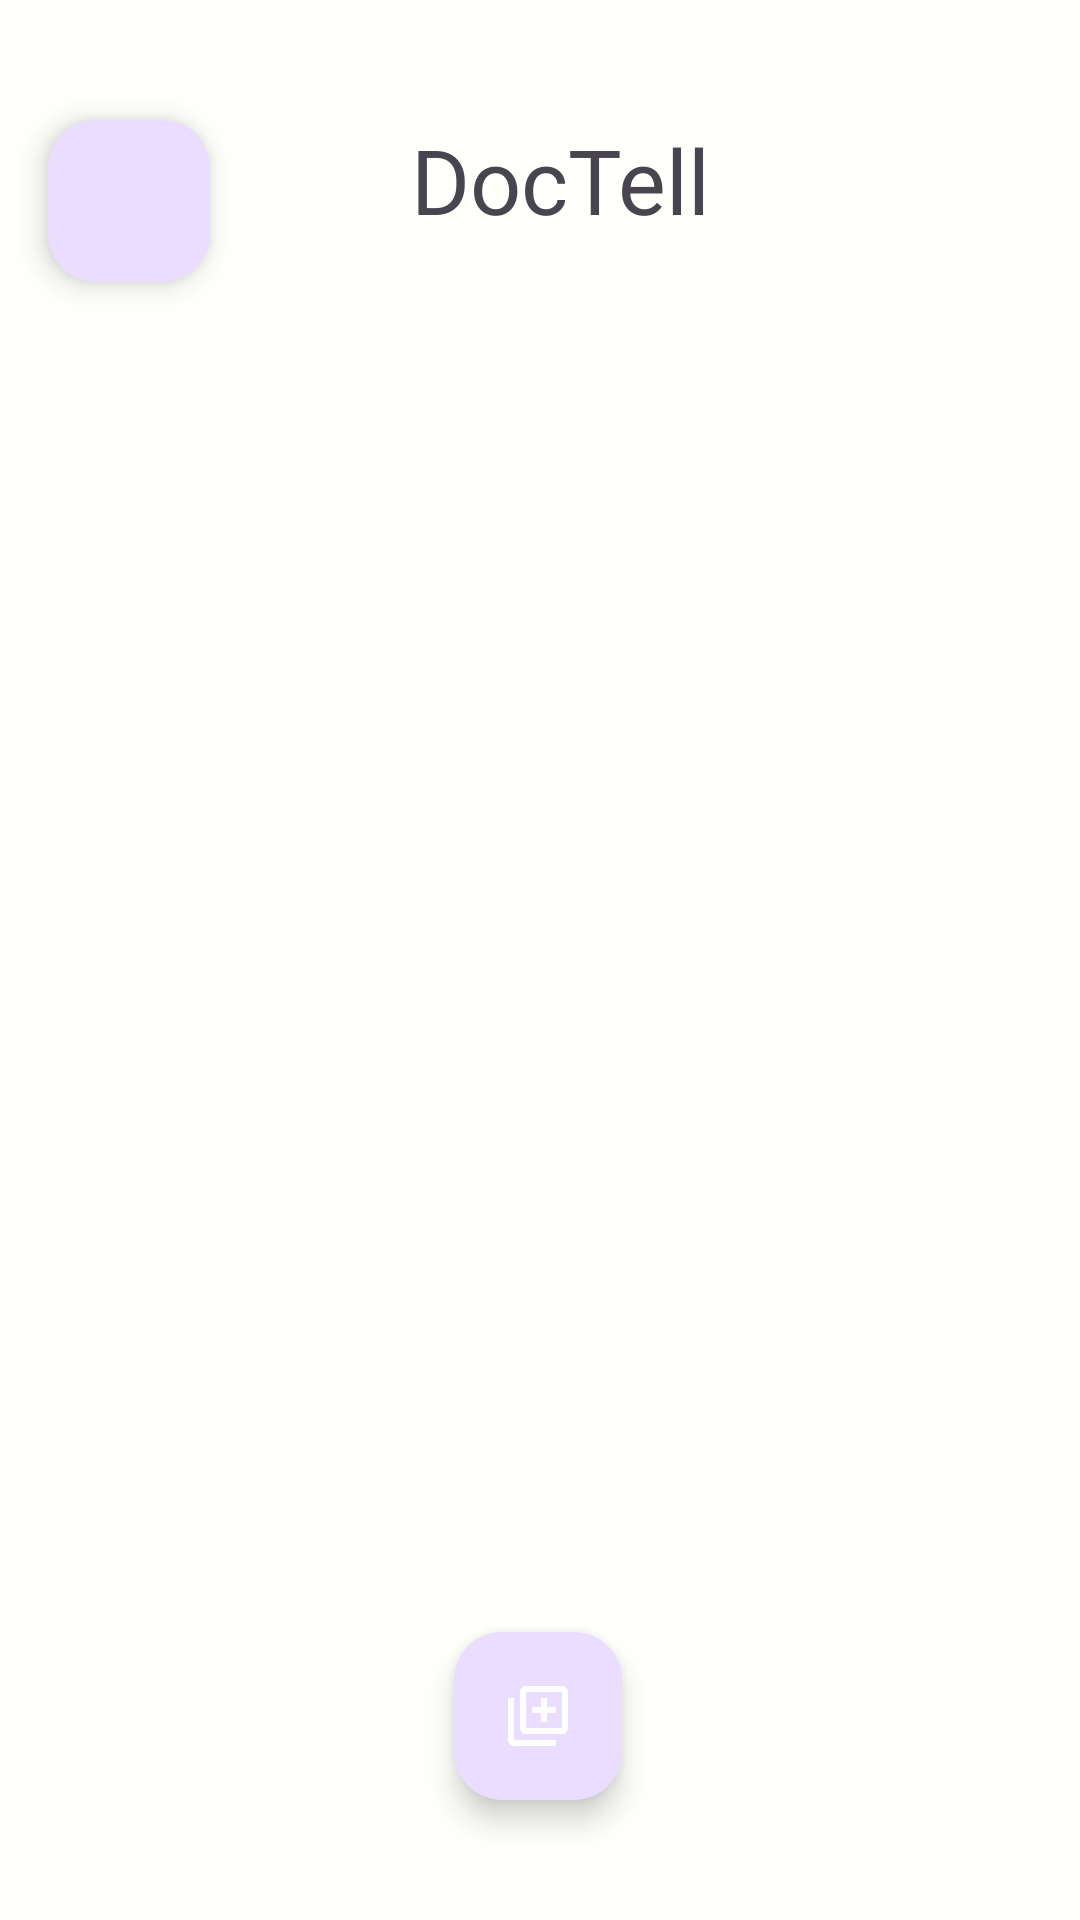

Where icons sit on this 1080x1920 app screen, as Rect(x1, y1, x2, y2):
Add Book: Rect(454, 1632, 622, 1800)
